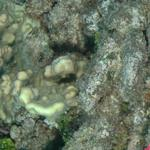alive: (2, 3, 147, 147)
